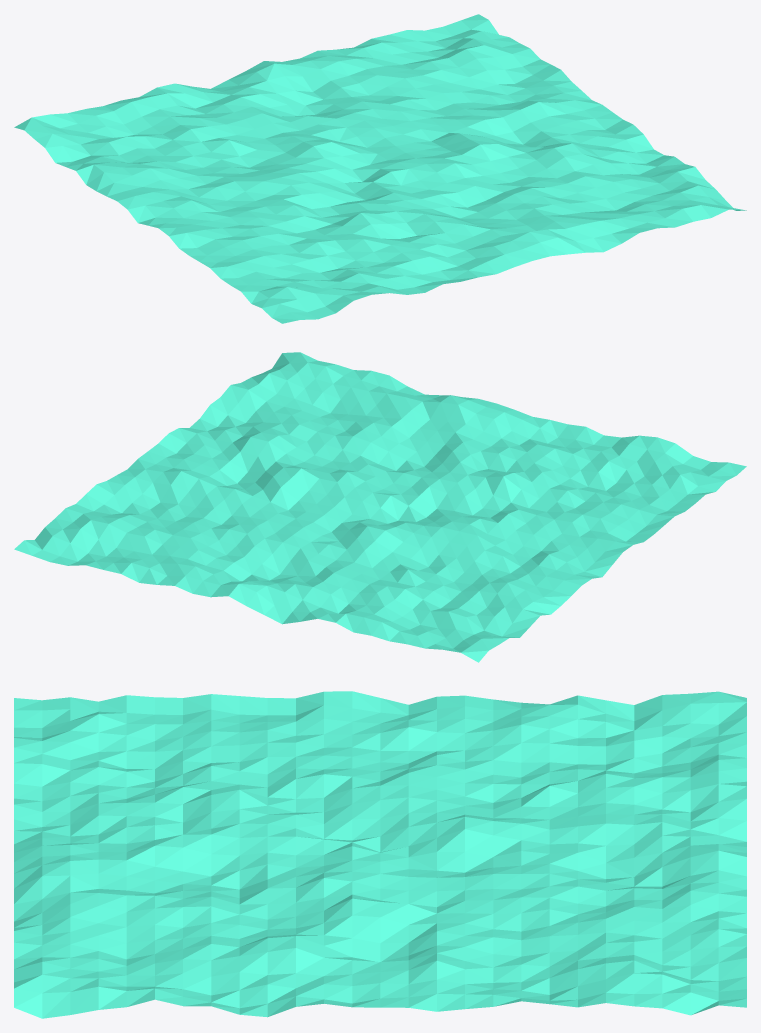
The model's file is Lake.glb.
The picture shows the model from 3 angles, top to bottom: view 1: azimuth 30°, elevation 25°; view 2: azimuth 150°, elevation 25°; view 3: azimuth 270°, elevation 25°; orthographic projection. The views are drawn at different scales.
Visible parts, largest first — view 1: Lake; view 2: Lake; view 3: Lake.
Part boxes in pixels (box(x1,y1,x2,y2)): Lake: box(14, 14, 746, 323); Lake: box(14, 352, 746, 662); Lake: box(14, 691, 746, 1018).
Bounding box in the file's own units: 4.4 × 0.1993 × 4.4.
